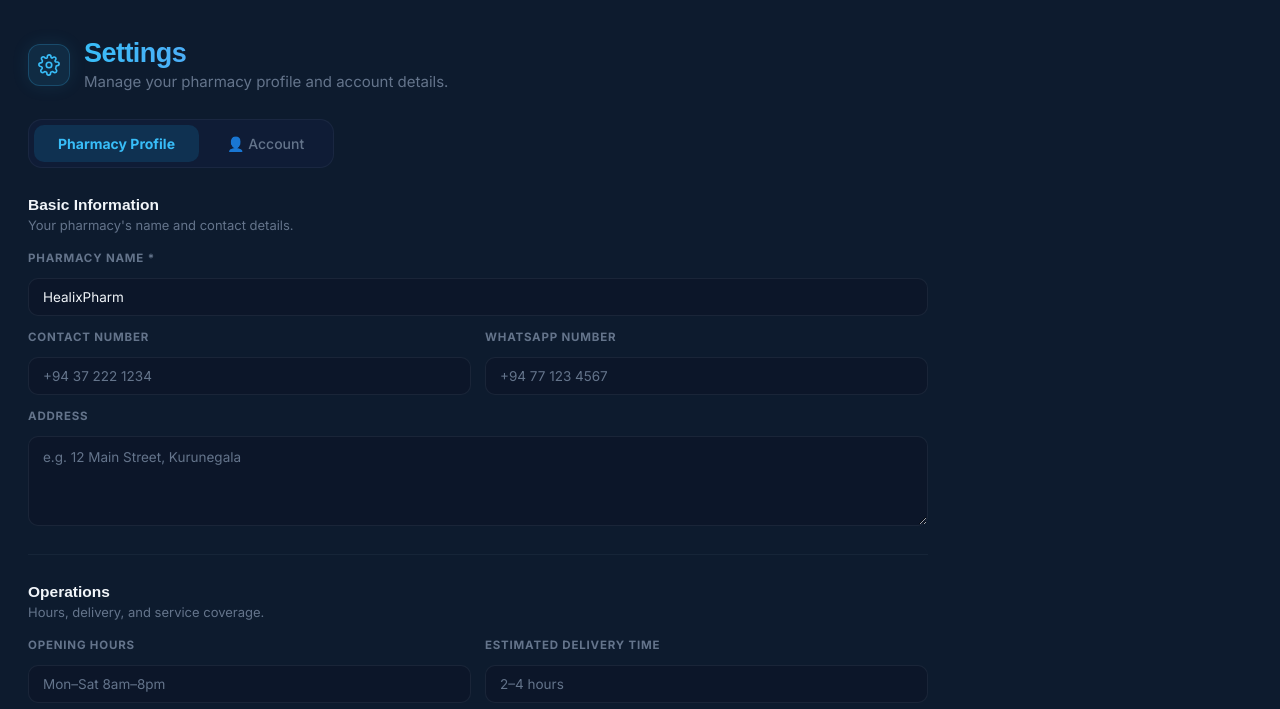
it: Settings Page › renders Settings page and switches tabs correctly
This screenshot has width=1280, height=709.
Expected: the heading "Settings" is shown, left=84, top=38, right=448, bottom=69
Expected: the button "Pharmacy Profile" is shown, left=34, top=125, right=199, bottom=162
Switch to Account tab
Step 1. Click the button "👤 Account" → coordinates (266, 144), box left=203, top=125, right=328, bottom=162
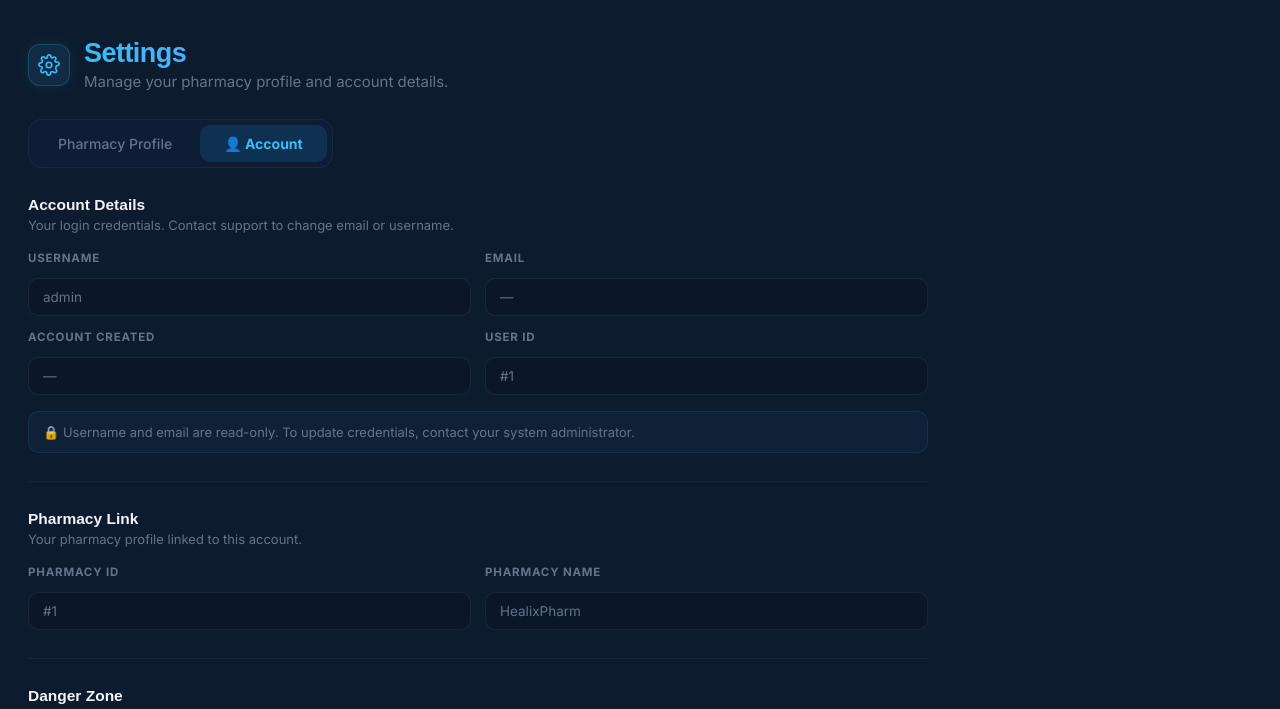
Expected: the heading "Account Details" is shown, left=28, top=196, right=145, bottom=213
Expected: the text "admin" is shown, left=28, top=278, right=471, bottom=316
